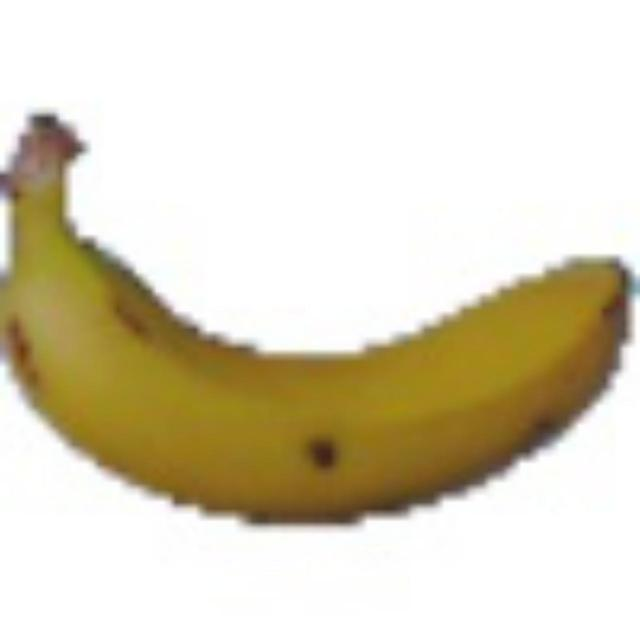banana: (2, 93, 640, 519)
